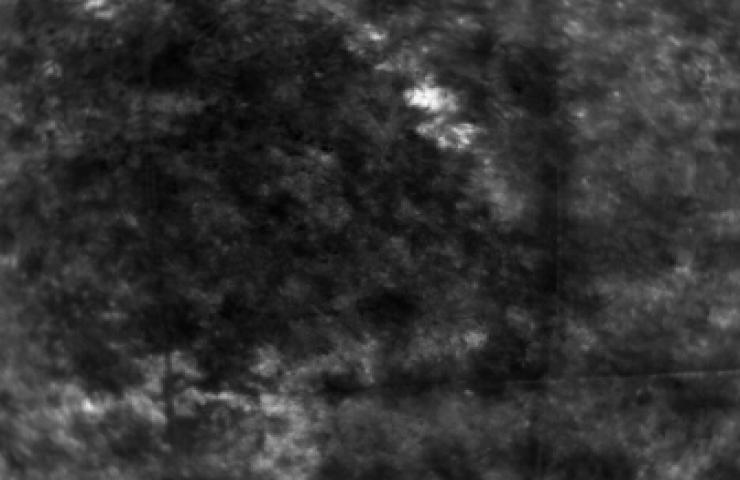landmines: (403, 75, 461, 113)
